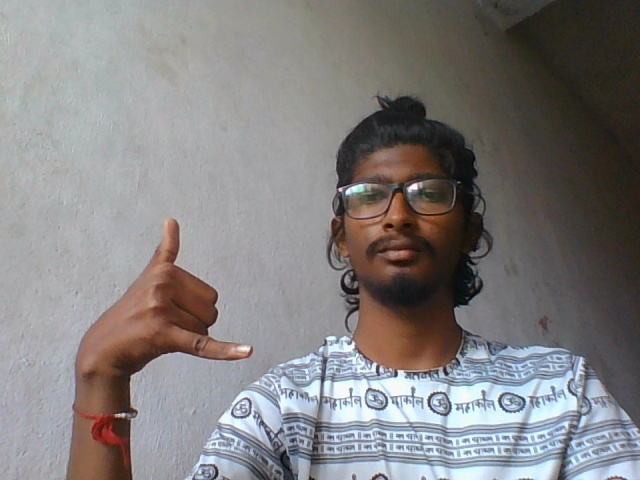Yes: (58, 211, 268, 401)
